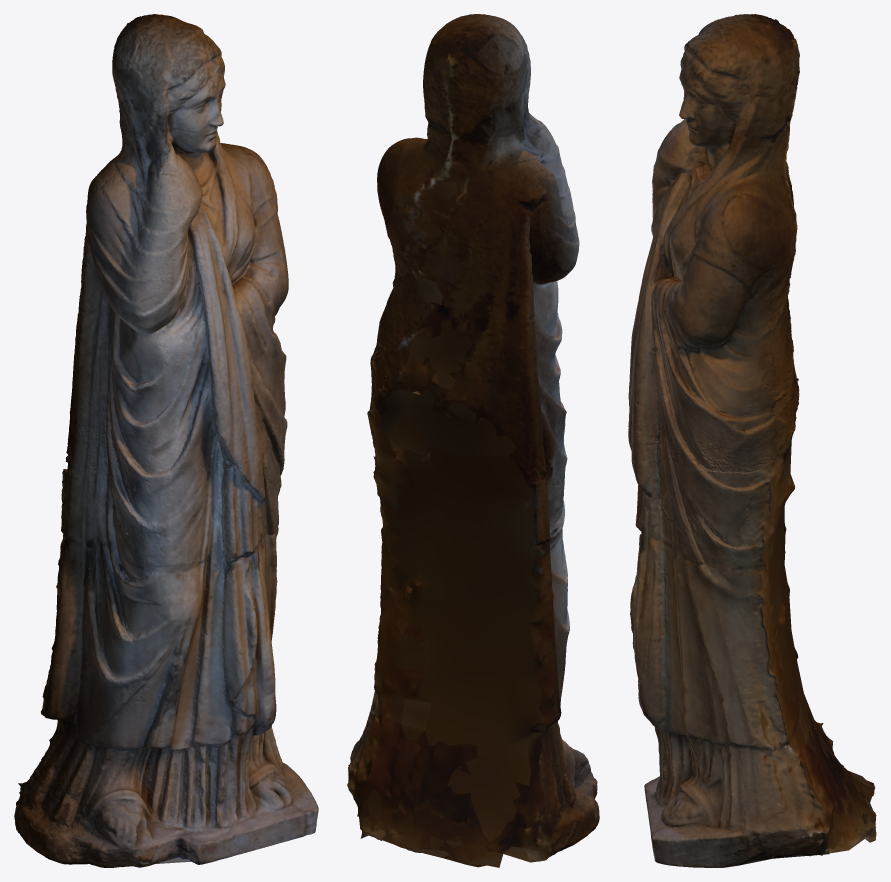
File: statue_of_matron-v1.glb
3 views of the same model, side by side, from view 1: azimuth 30°, elevation 25°; view 2: azimuth 150°, elevation 25°; view 3: azimuth 270°, elevation 25° (orthographic). The views are drawn at different scales.
Visible parts, largest first — view 1: Object_2, Object_4, Object_3, Object_5, Object_6, Object_7; view 2: Object_3, Object_2, Object_4, Object_6, Object_5, Object_7; view 3: Object_5, Object_2, Object_6, Object_3, Object_7, Object_4.
Boxes of the visible parts, x1,y1,x2,y2 form: Object_2: (61,131,288,614); Object_4: (18,55,221,867); Object_3: (14,14,236,865); Object_5: (112,22,318,864); Object_6: (98,20,304,860); Object_7: (136,14,287,766); Object_3: (349,14,599,867); Object_2: (377,67,567,641); Object_4: (347,40,599,852); Object_6: (362,14,554,737); Object_5: (348,27,526,832); Object_7: (347,14,507,843); Object_5: (628,14,828,867); Object_2: (631,74,799,655); Object_6: (628,14,783,867); Object_3: (683,14,875,867); Object_7: (629,16,876,850); Object_4: (644,154,876,858).
Size of the model in its own units: 8.48 by 27.24 by 7.69.
1 material, 1 textured.
